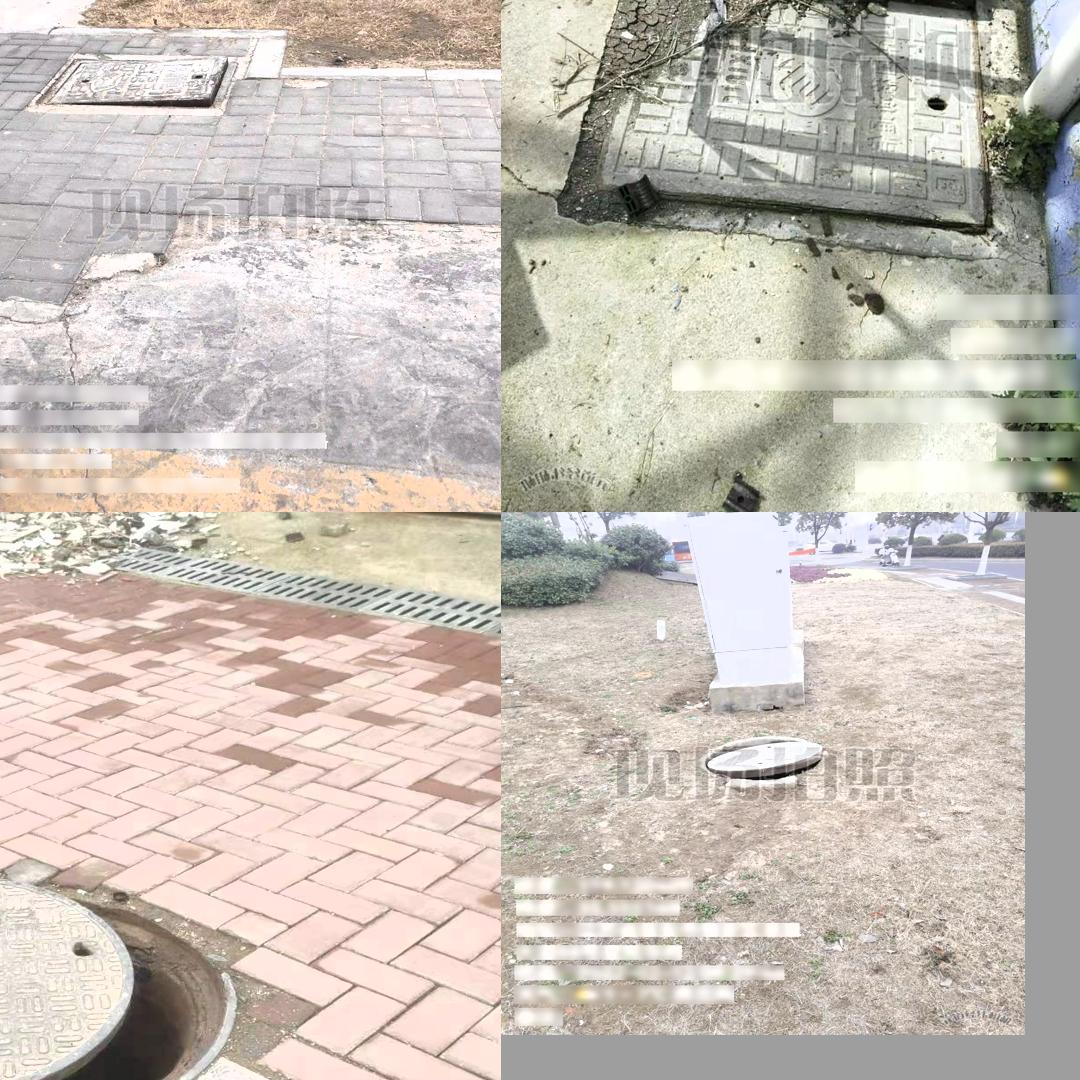uncovered: (562, 0, 995, 251), (0, 873, 241, 1080), (34, 56, 238, 114), (702, 734, 825, 781)
